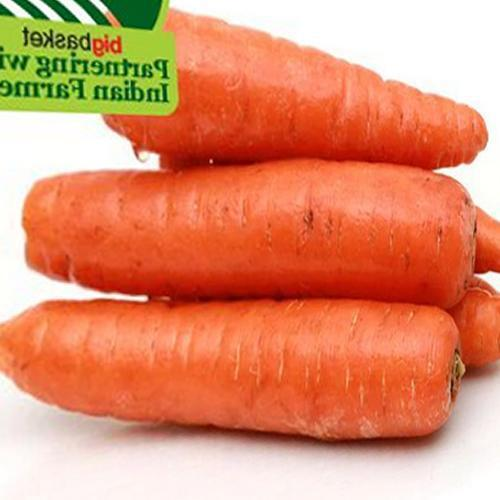carrot: (17, 148, 500, 448), (38, 161, 486, 309)
